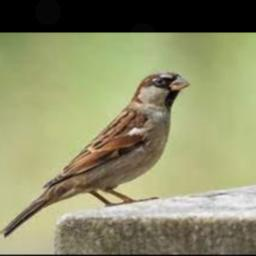Sparrow: (0, 72, 189, 237)
